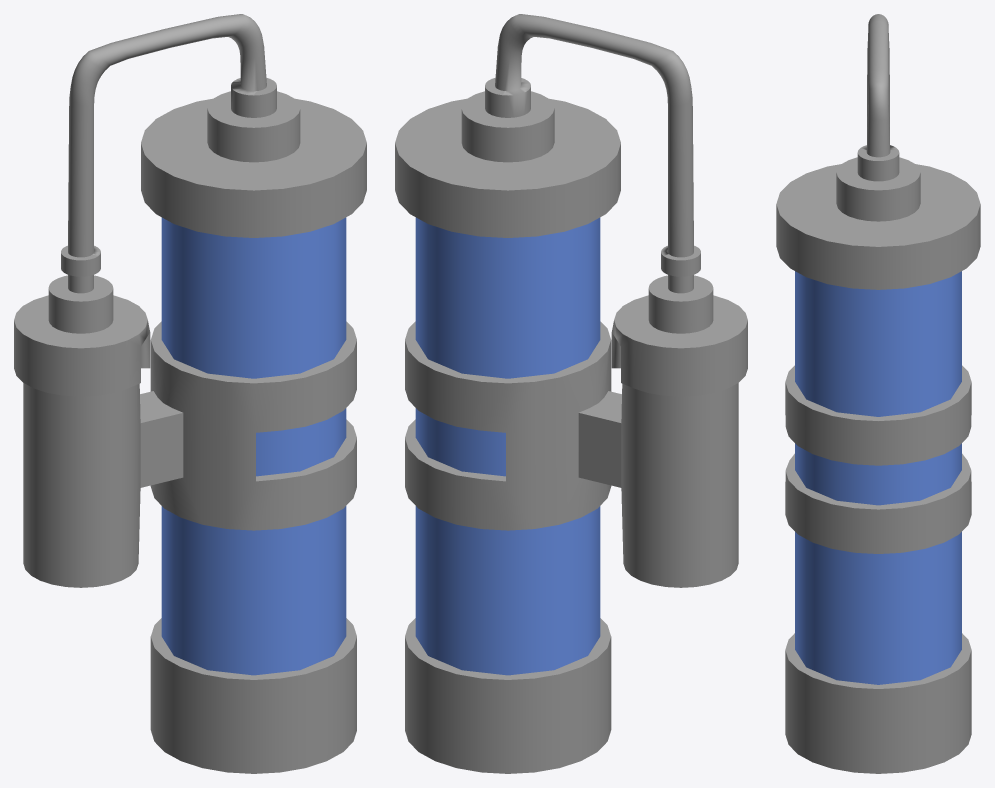
File: Water_Sample_Tube.fbx
3 renders of one model, left to right at view 1: azimuth 30°, elevation 25°; view 2: azimuth 150°, elevation 25°; view 3: azimuth 270°, elevation 25°, orthographic. The views are drawn at different scales.
Visible parts, largest first — view 1: Water_Sample_Tube; view 2: Water_Sample_Tube; view 3: Water_Sample_Tube.
Boxes of the visible parts, <box> form: Water_Sample_Tube: <box>14,14,366,773</box>; Water_Sample_Tube: <box>395,14,747,773</box>; Water_Sample_Tube: <box>776,14,980,773</box>.
Bounding box in the file's own units: 4.11 × 8.62 × 2.45.
